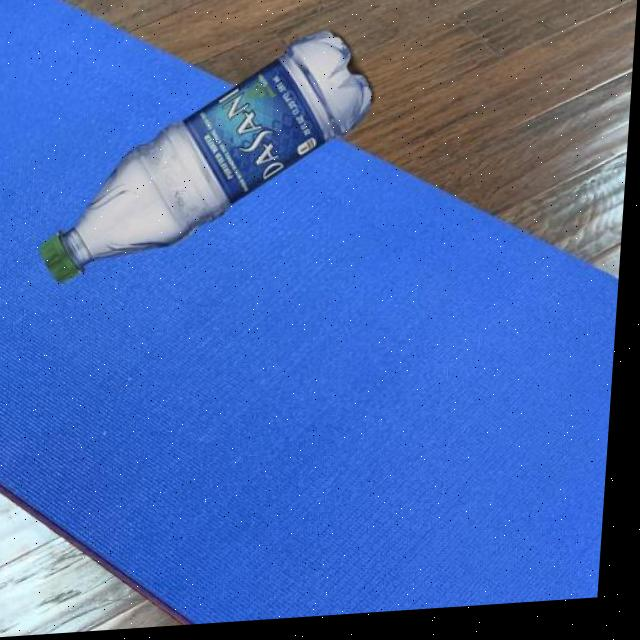bottle: (40, 29, 378, 286)
